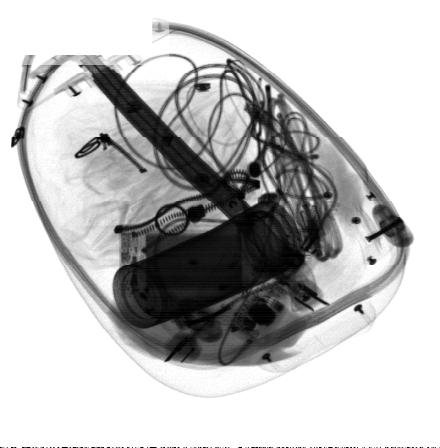Powerbank: (120, 224, 249, 305)
